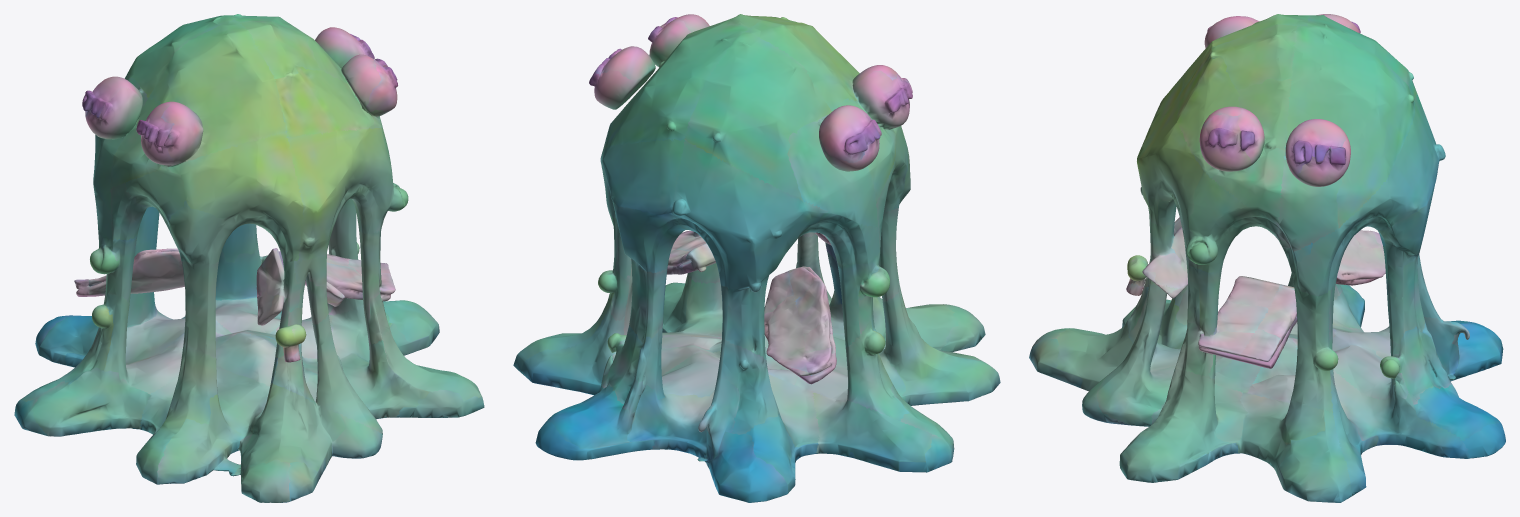
The model's file is hr_blob.glb.
3 renders of one model, left to right at view 1: azimuth 30°, elevation 25°; view 2: azimuth 150°, elevation 25°; view 3: azimuth 270°, elevation 25°, orthographic. The views are drawn at different scales.
Visible parts, largest first — view 1: tripo_node_09a7ca4f-8768-49d9-909d-975e32871448; view 2: tripo_node_09a7ca4f-8768-49d9-909d-975e32871448; view 3: tripo_node_09a7ca4f-8768-49d9-909d-975e32871448.
Boxes of the visible parts, box(x1,y1,x2,y2) form: tripo_node_09a7ca4f-8768-49d9-909d-975e32871448: box(14, 14, 484, 502); tripo_node_09a7ca4f-8768-49d9-909d-975e32871448: box(513, 14, 1000, 502); tripo_node_09a7ca4f-8768-49d9-909d-975e32871448: box(1029, 14, 1505, 502).
Bounding box in the file's own units: 0.9998 × 0.8399 × 0.9695.
Materials: 1 (1 with a texture image).
